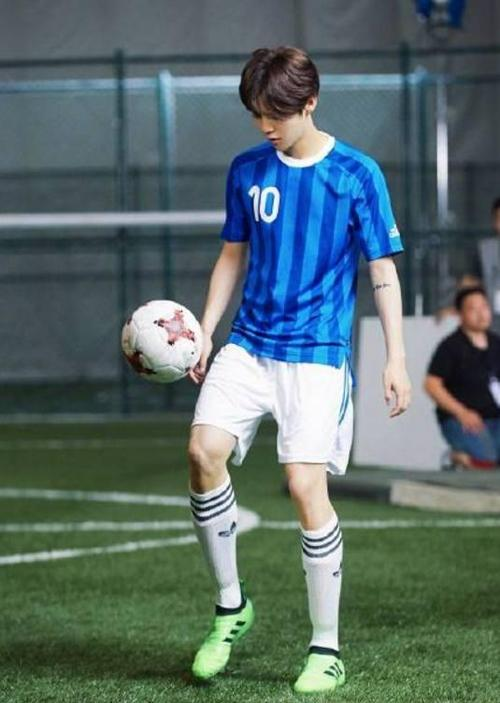football: (119, 295, 208, 382)
